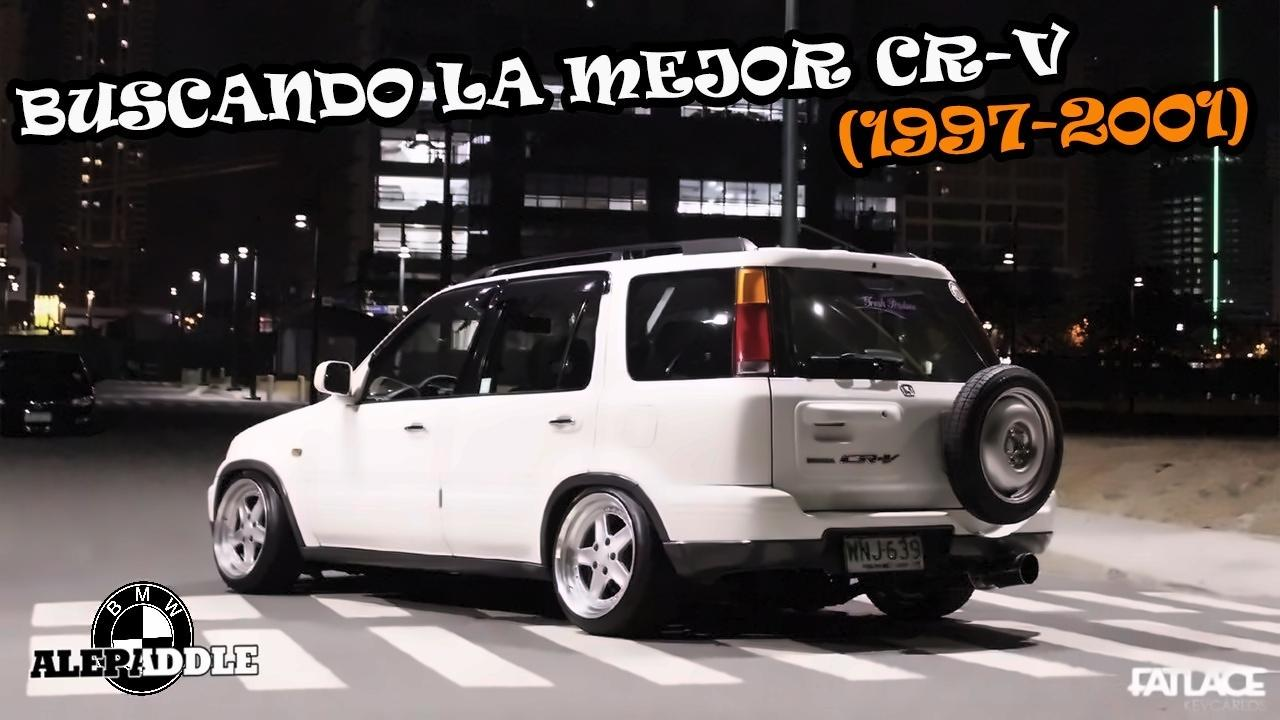Car boot: (764, 252, 1045, 517)
Fender - -F-L-: (249, 395, 361, 564)
Passenger-s door - -F-L-: (354, 264, 483, 553)
Passenger-s door - -R-L-: (484, 266, 608, 564)
Rear bumper: (657, 484, 1070, 606)
Rear light - -L-: (724, 248, 795, 389)
Side bumper - -L-: (295, 537, 564, 602)
Side mirror - -L-: (306, 342, 384, 417)
